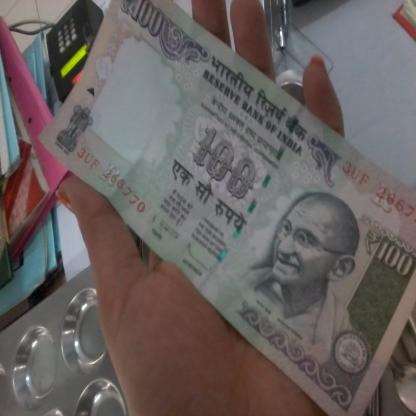Old100Front: (36, 0, 416, 416)
